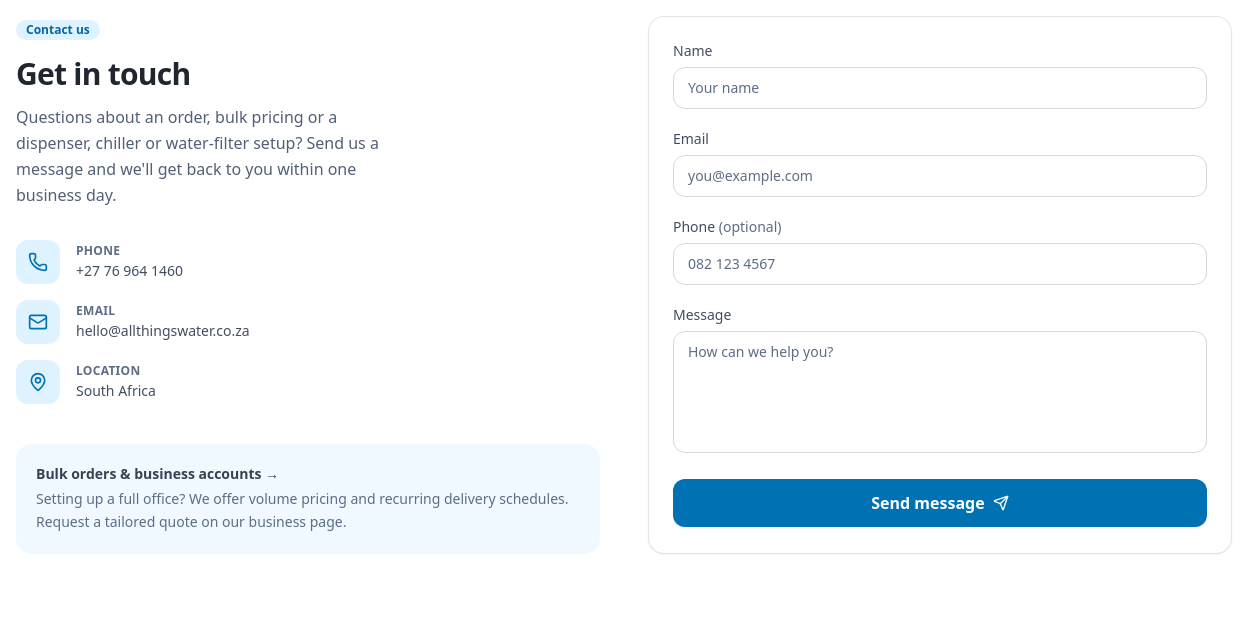
Scenario: Contact › shows an error message when the configured endpoint request fails
Type "Jane Doe" into the field labelled "Name" at (940, 88), box top-left (673, 67), bottom-right (1207, 109)
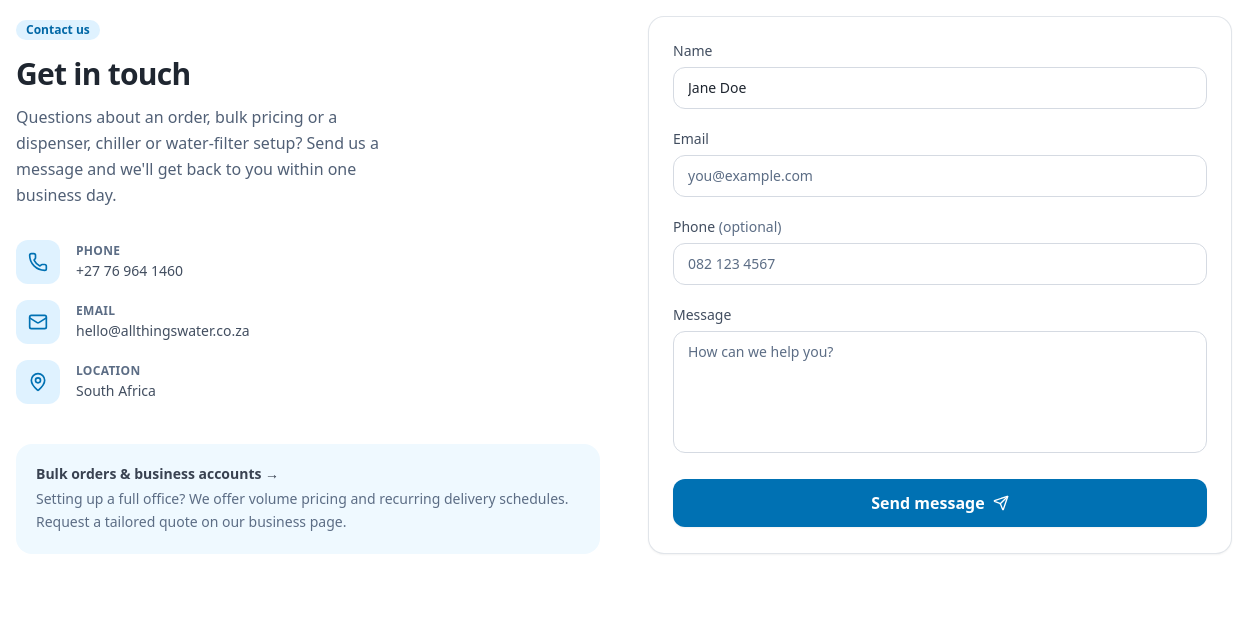
Type "jane@example.com" into the field labelled "Email" at (940, 176), box top-left (673, 155), bottom-right (1207, 197)
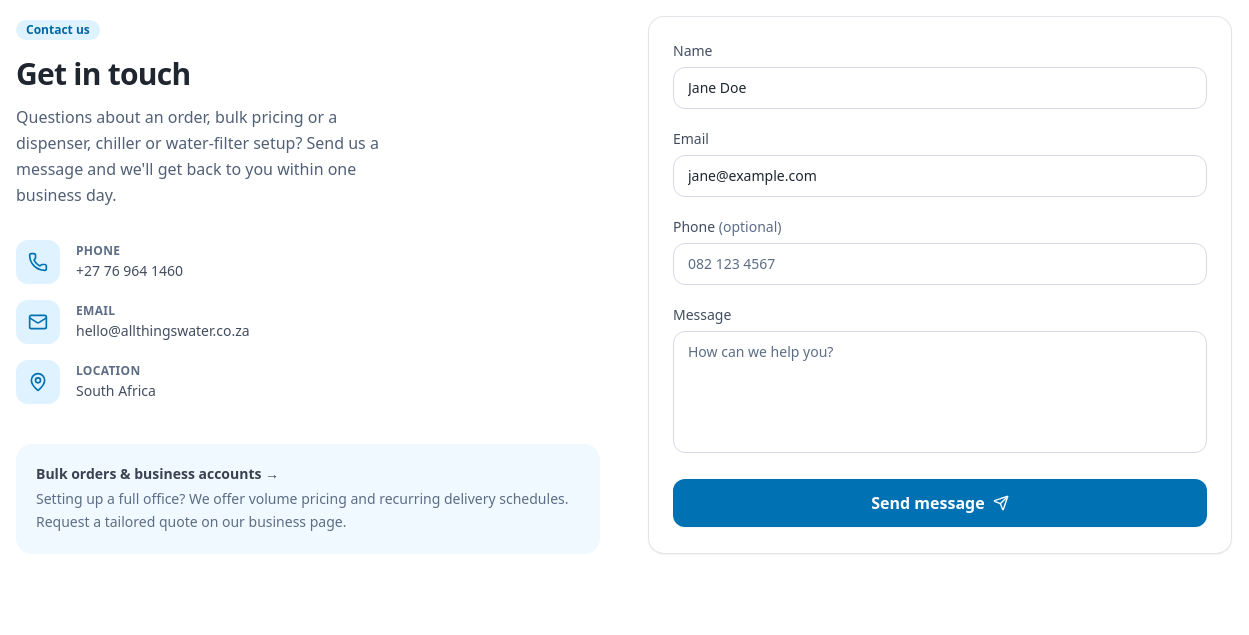
Type "Need help with a dispenser." into the text box labelled "Message" at (940, 392), box top-left (673, 331), bottom-right (1207, 453)
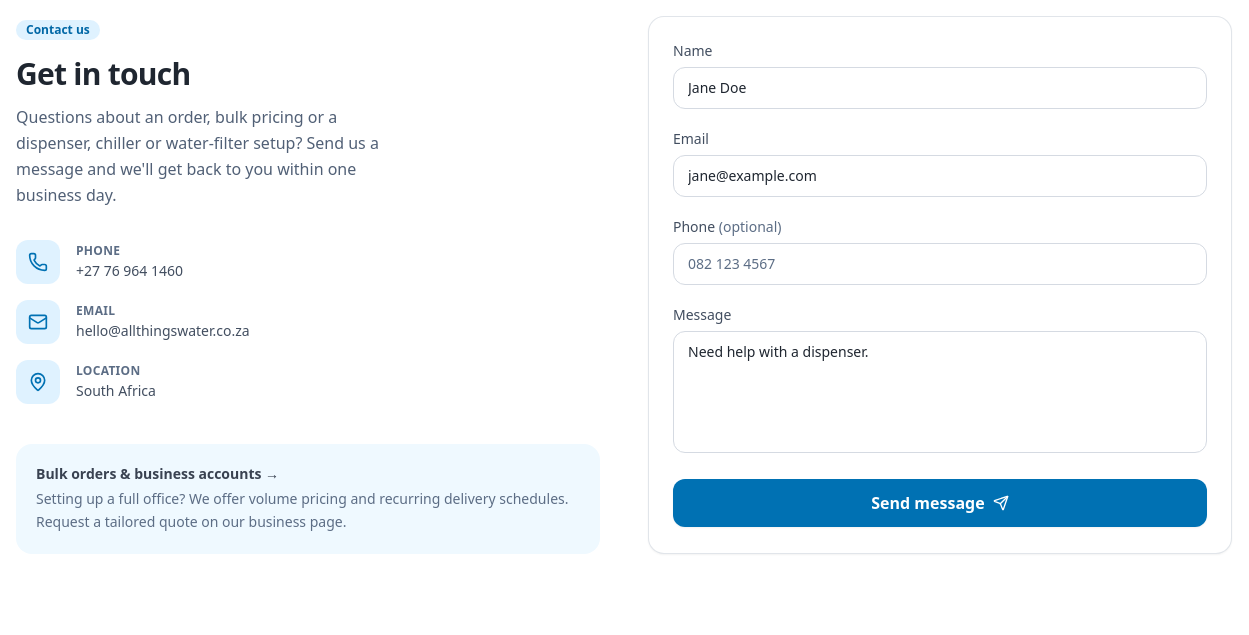
Click the button "Send message" at (940, 503), box top-left (673, 479), bottom-right (1207, 527)
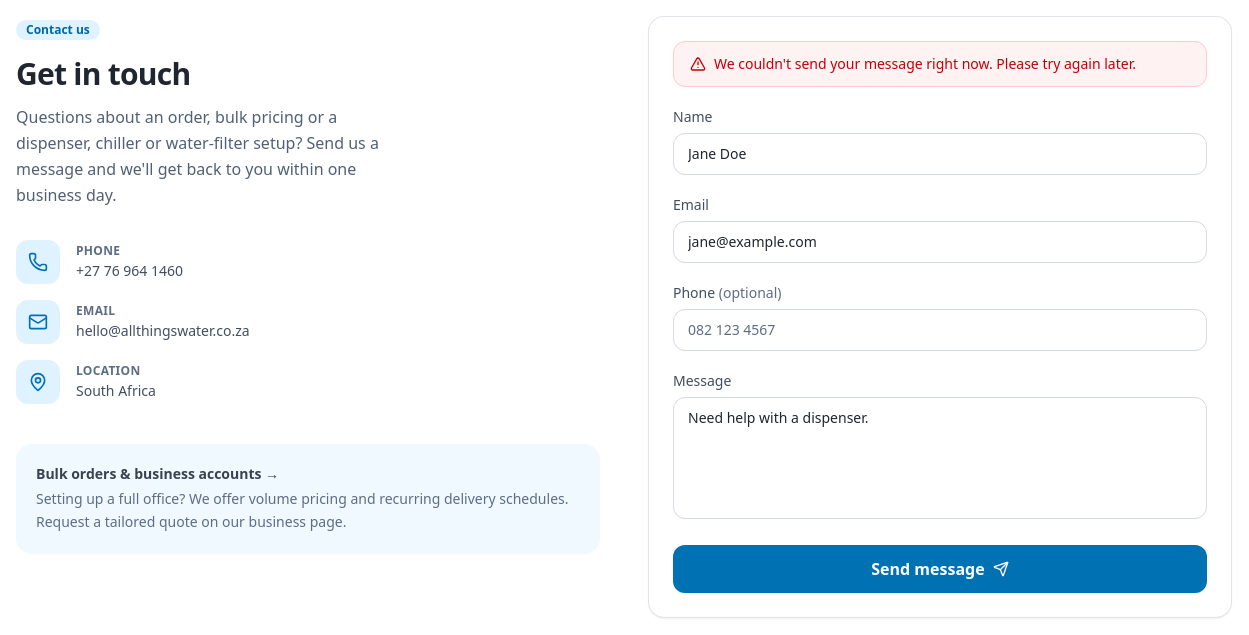
Now the message "We couldn't send your message right now. Please try again later." is shown, box top-left (673, 41), bottom-right (1207, 87)
